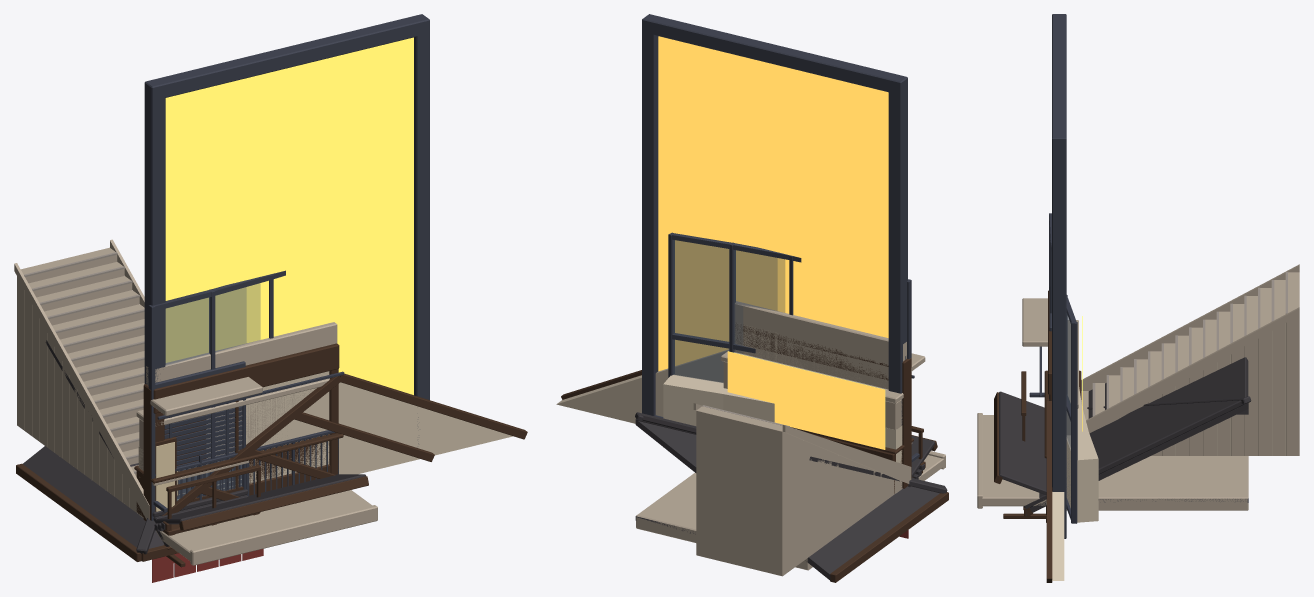
Rendered from kit_batch1.glb.
3 views of the same model, side by side, from view 1: azimuth 30°, elevation 25°; view 2: azimuth 150°, elevation 25°; view 3: azimuth 270°, elevation 25° (orthographic). The views are drawn at different scales.
Parts seen in each view (by area): view 1: M_billboard_frame_6x9m, M_stair_flight_2m, A_gable_end_run4m, M_mall_glass_curve_10deg, A_shopfront_4m, M_balcony_slab_4m, M_shutter_2m, A_wall_plaster_4m, A_roof_corner_run2m, M_balcony_slab_2m, A_canopy_roof_4m, M_wall_concrete_4m (+15 smaller); view 2: M_billboard_frame_6x9m, M_stair_flight_2m, M_mall_glass_curve_10deg, A_shopfront_4m, M_wall_concrete_4m, A_roof_corner_run4m, A_gable_end_run4m, M_mall_band_curve_10deg, M_terrace_slab_4m, A_wall_plaster_4m, A_corner_post, A_roof_corner_run2m (+4 smaller); view 3: M_stair_flight_2m, M_terrace_slab_4m, M_billboard_frame_6x9m, A_canopy_roof_4m, A_roof_slope_4m_run3m, A_roof_slope_4m_run4m, M_mall_glass_curve_10deg, M_mall_band_curve_10deg, A_gable_end_run4m, A_roof_slope_4m_run2m, M_balcony_slab_4m, A_roof_corner_run4m (+4 smaller).
Part boxes in pixels (x1,y1,x2,y2): M_billboard_frame_6x9m: [144, 14, 429, 443]; M_stair_flight_2m: [14, 239, 149, 519]; A_gable_end_run4m: [177, 373, 527, 510]; M_mall_glass_curve_10deg: [148, 270, 285, 520]; A_shopfront_4m: [134, 344, 344, 516]; M_balcony_slab_4m: [170, 490, 377, 565]; M_shutter_2m: [155, 361, 245, 500]; A_wall_plaster_4m: [206, 343, 336, 495]; A_roof_corner_run2m: [69, 485, 178, 560]; M_balcony_slab_2m: [156, 522, 284, 565]; A_canopy_roof_4m: [159, 474, 368, 529]; M_wall_concrete_4m: [156, 322, 337, 482]; M_billboard_frame_6x9m: [642, 14, 907, 425]; M_stair_flight_2m: [693, 403, 911, 576]; M_mall_glass_curve_10deg: [668, 232, 911, 382]; A_shopfront_4m: [727, 326, 914, 493]; M_wall_concrete_4m: [735, 301, 888, 389]; A_roof_corner_run4m: [635, 412, 948, 582]; A_gable_end_run4m: [556, 349, 728, 423]; M_mall_band_curve_10deg: [663, 374, 902, 492]; M_terrace_slab_4m: [636, 473, 812, 570]; A_wall_plaster_4m: [735, 323, 888, 381]; A_corner_post: [902, 358, 911, 488]; A_roof_corner_run2m: [881, 478, 948, 543]; M_stair_flight_2m: [1081, 264, 1299, 455]; M_terrace_slab_4m: [1066, 456, 1248, 510]; M_billboard_frame_6x9m: [1052, 14, 1066, 538]; A_canopy_roof_4m: [994, 392, 1046, 522]; A_roof_slope_4m_run3m: [1029, 381, 1196, 507]; A_roof_slope_4m_run4m: [1025, 357, 1248, 508]; M_mall_glass_curve_10deg: [1049, 213, 1077, 523]; M_mall_band_curve_10deg: [1066, 387, 1098, 522]; A_gable_end_run4m: [1046, 399, 1064, 582]; A_roof_slope_4m_run2m: [1025, 386, 1147, 506]; M_balcony_slab_4m: [977, 413, 1046, 508]; A_roof_corner_run4m: [1024, 396, 1251, 516].
Size of the model in its own units: 8.66 by 10.2 by 6.56.
